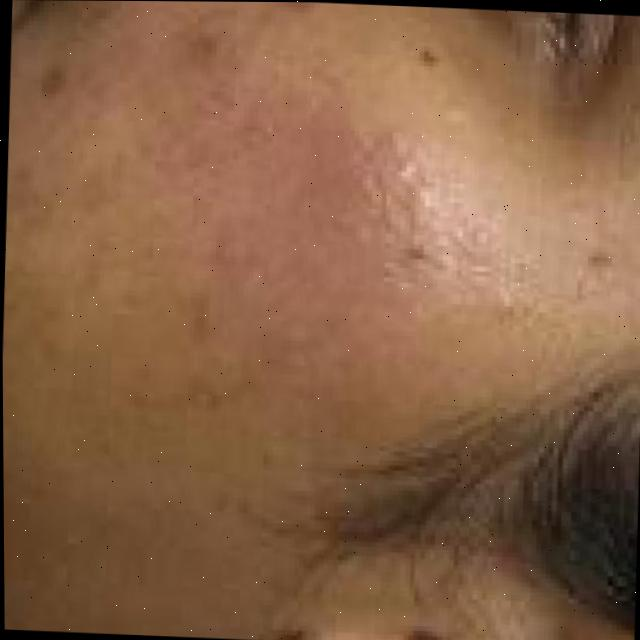Rosacea: (130, 17, 447, 391)
